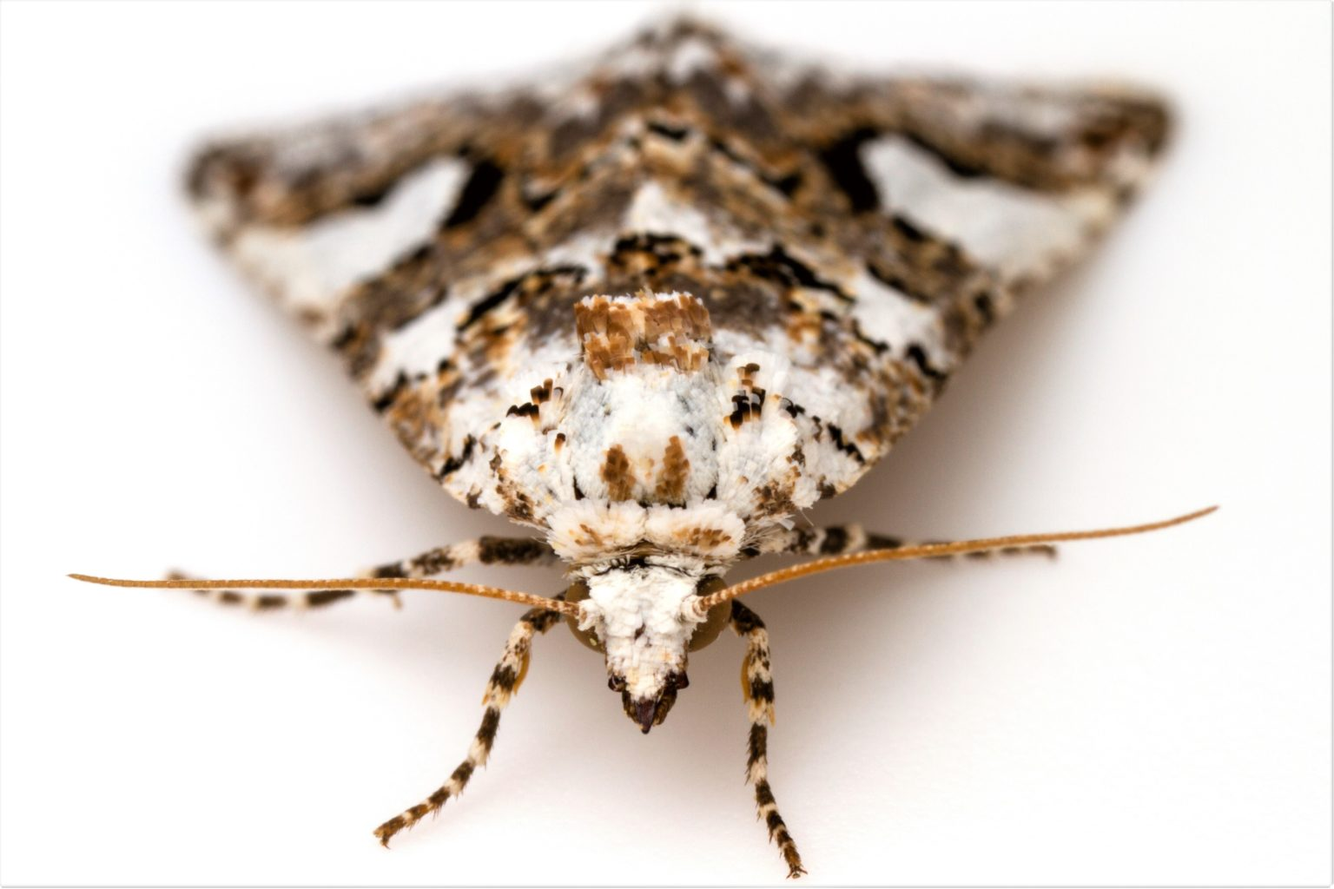Noctuidae: (63, 17, 1248, 881)
